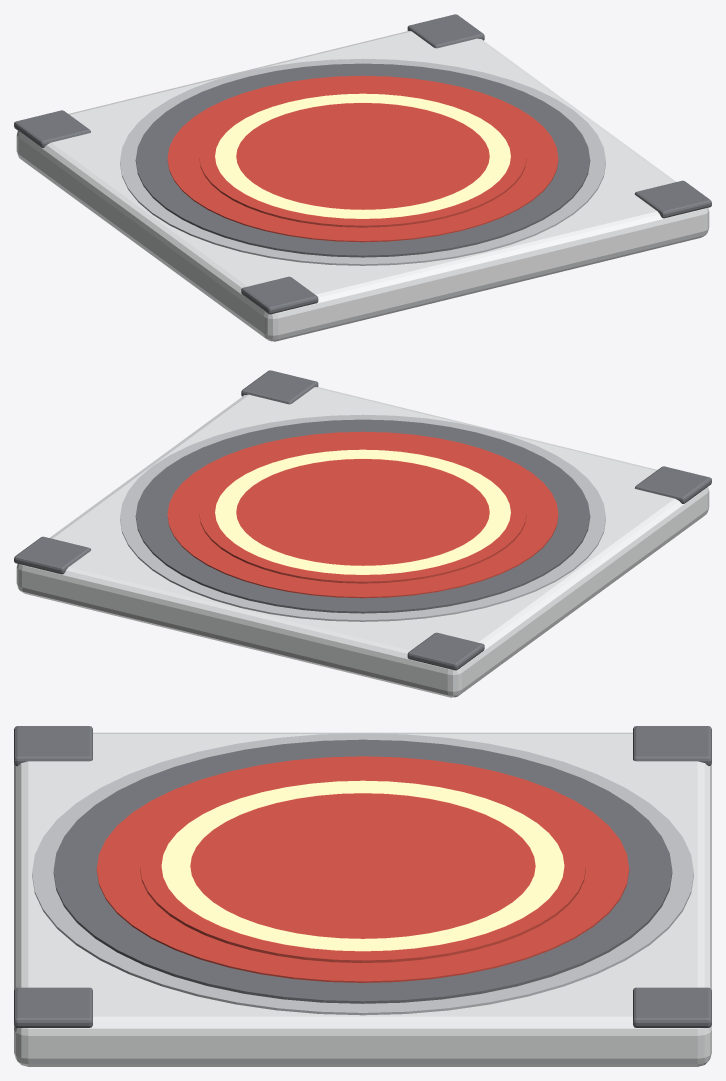
Rendered from button_down.gltf.
The picture shows the model from 3 angles, top to bottom: view 1: azimuth 30°, elevation 25°; view 2: azimuth 150°, elevation 25°; view 3: azimuth 270°, elevation 25°; orthographic projection. The views are drawn at different scales.
Parts seen in each view (by area): view 1: button_down; view 2: button_down; view 3: button_down.
Part boxes in pixels (x1=…): button_down: x1=14, y1=14, x2=711, y2=341; button_down: x1=14, y1=370, x2=711, y2=697; button_down: x1=14, y1=726, x2=711, y2=1066.
Bounding box in the file's own units: 1.94 × 0.179 × 1.94.
